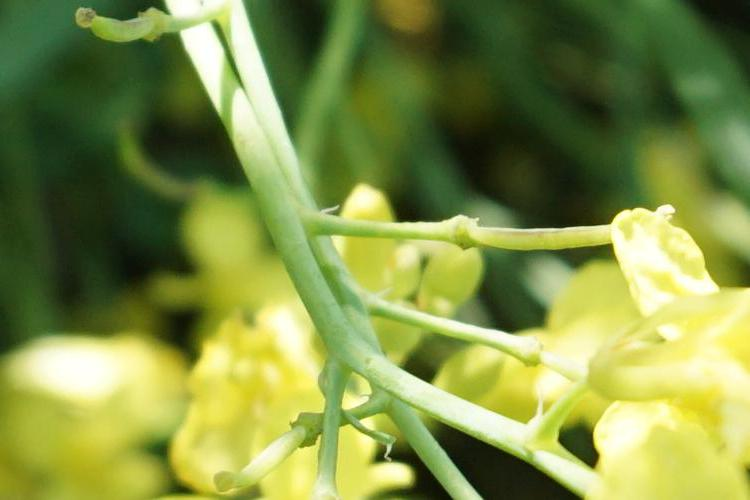yellow: (166, 296, 344, 489), (568, 300, 729, 436), (611, 205, 724, 329)
